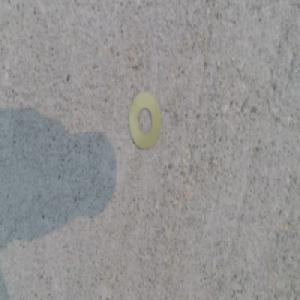Washer: (129, 90, 161, 151)
